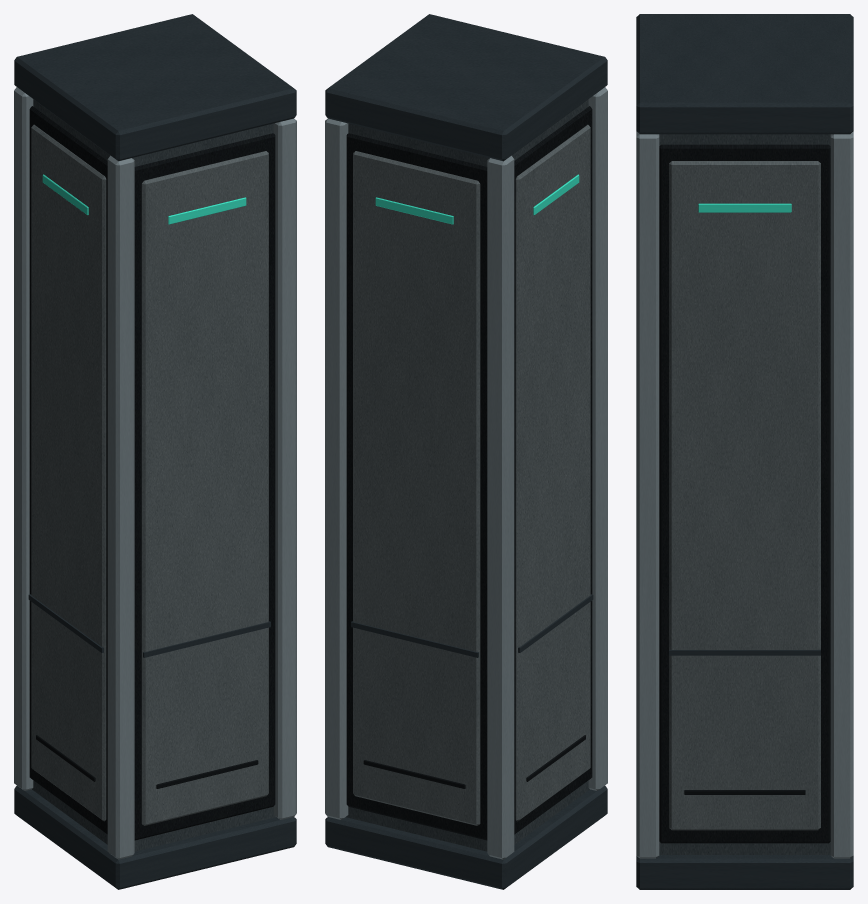
The model's file is pillar.glb.
The picture shows the model from 3 angles, left to right: view 1: azimuth 30°, elevation 25°; view 2: azimuth 150°, elevation 25°; view 3: azimuth 270°, elevation 25°; orthographic projection. The views are drawn at different scales.
Visible parts, largest first — view 1: pillar; view 2: pillar; view 3: pillar.
Boxes of the visible parts, left/top/right/bottom form: pillar: left=14, top=14, right=296, bottom=889; pillar: left=325, top=14, right=607, bottom=889; pillar: left=636, top=14, right=853, bottom=889.
Bounding box in the file's own units: 1 × 4 × 1.
1 material, 1 textured.
